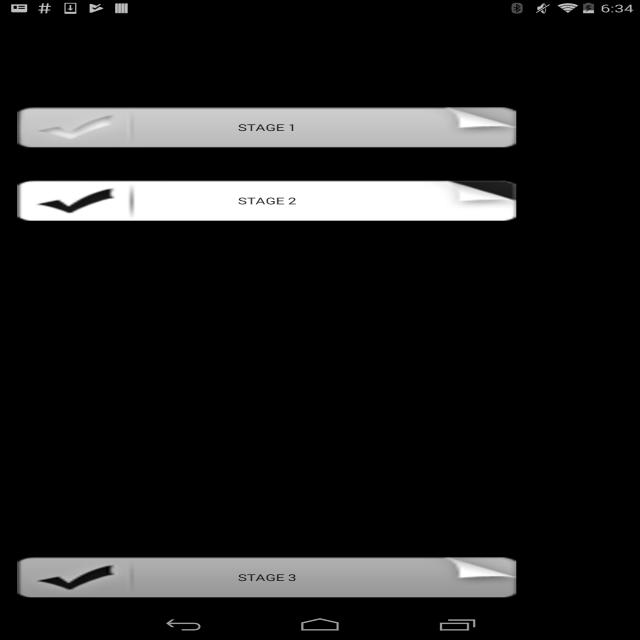Button: (21, 100, 519, 150), (12, 179, 519, 222), (13, 556, 522, 596)
